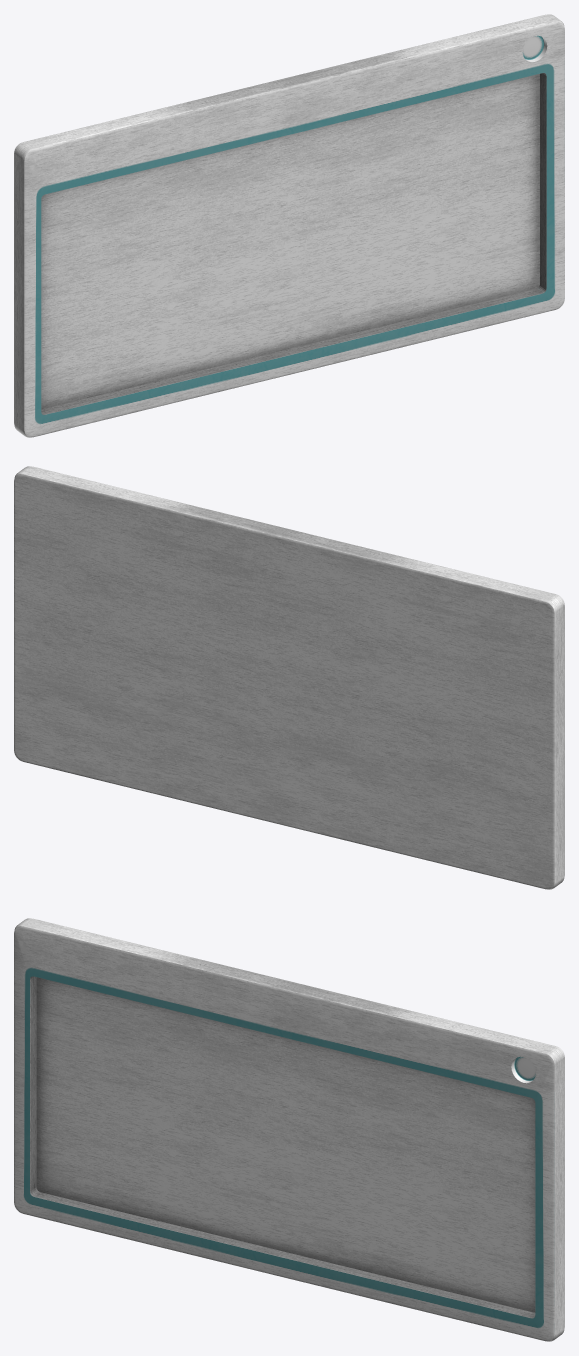
Rendered from Mesh_Board_IME_hole.fbx.
3 renders of one model, top to bottom at view 1: azimuth 30°, elevation 25°; view 2: azimuth 150°, elevation 25°; view 3: azimuth 330°, elevation 25°, orthographic.
Visible parts, largest first — view 1: Mesh_Board_IME_hole; view 2: Mesh_Board_IME_hole; view 3: Mesh_Board_IME_hole.
Boxes of the visible parts, x1=… form: Mesh_Board_IME_hole: x1=14, y1=14, x2=564, y2=437; Mesh_Board_IME_hole: x1=14, y1=466, x2=564, y2=889; Mesh_Board_IME_hole: x1=14, y1=918, x2=564, y2=1341.
Bounding box in the file's own units: 1.01 × 0.5145 × 0.0364.
